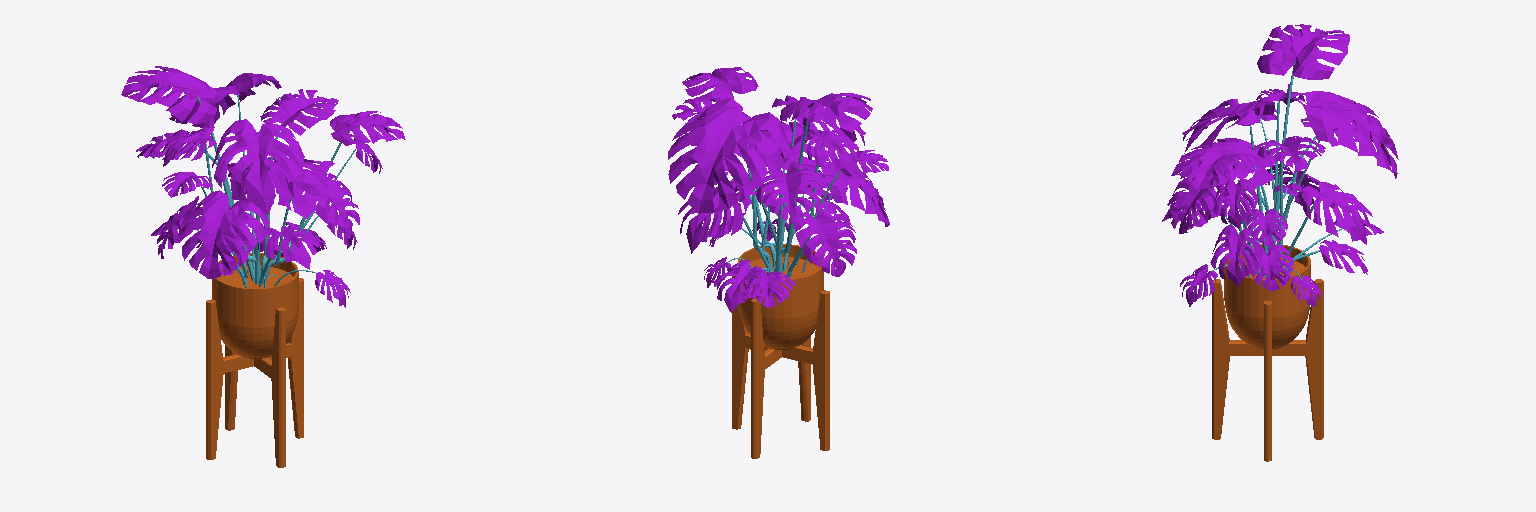
Rendered from leaves.obj.
3 views of the same model, side by side, from view 1: azimuth 30°, elevation 25°; view 2: azimuth 150°, elevation 25°; view 3: azimuth 270°, elevation 25° (orthographic).
Parts seen in each view (by area): view 1: Leaves, Stand, Pot_LP, root_HP_1; view 2: Leaves, Stand, Pot_LP, root_HP_1; view 3: Leaves, Stand, Pot_LP, root_HP_1.
Part boxes in pixels (x1,y1,x2,y2): Leaves: (121,66,405,307); Stand: (206,278,303,467); Pot_LP: (212,253,298,358); root_HP_1: (197,95,355,287); Leaves: (668,67,889,312); Stand: (732,276,829,458); Pot_LP: (738,244,823,349); root_HP_1: (727,93,841,277); Leaves: (1162,24,1398,306); Stand: (1212,279,1323,461); Pot_LP: (1224,244,1310,348); root_HP_1: (1212,62,1342,279).
Size of the model in its own units: 1.01 by 1.58 by 0.9162.